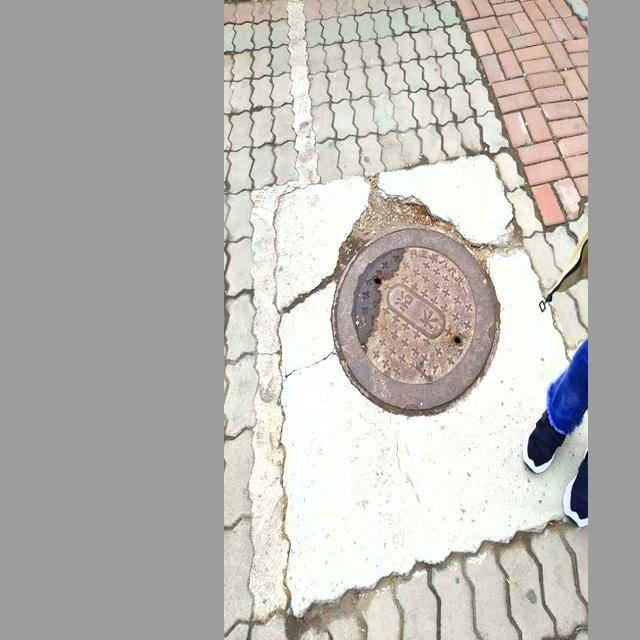circle: (289, 180, 533, 447)
